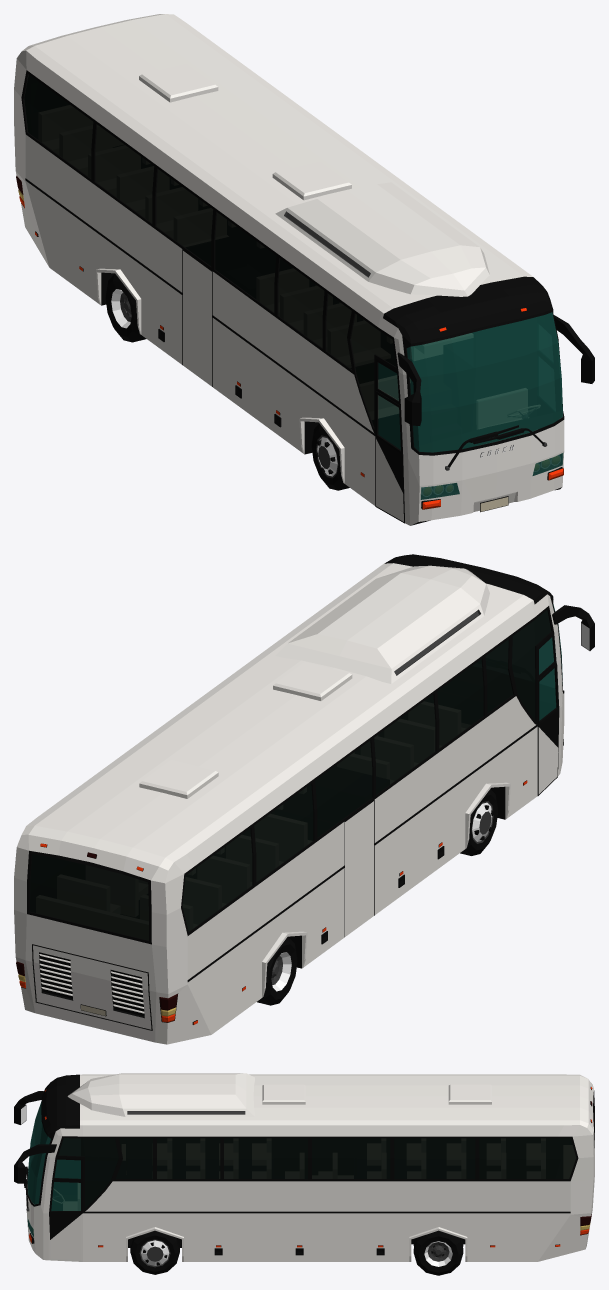
The model's file is Coach_04.FBX.
3 renders of one model, top to bottom at view 1: azimuth 30°, elevation 25°; view 2: azimuth 150°, elevation 25°; view 3: azimuth 270°, elevation 25°, orthographic. The views are drawn at different scales.
Parts seen in each view (by area): view 1: Coach_04, interior, wheels_b_r, wheel_f_r, mirror_r, mirror_l; view 2: Coach_04, wheels_b_r, wheel_f_r, interior, mirror_r; view 3: Coach_04, interior, wheels_b_l, wheel_f_l, mirror_l, mirror_r.
Part boxes in pixels (left/top/right/bottom): Coach_04: left=14, top=14, right=564, bottom=525; interior: left=378, top=312, right=562, bottom=452; wheels_b_r: left=105, top=274, right=146, bottom=342; wheel_f_r: left=311, top=423, right=349, bottom=490; mirror_r: left=397, top=352, right=421, bottom=425; mirror_l: left=553, top=315, right=594, bottom=383; Coach_04: left=14, top=554, right=564, bottom=1044; wheels_b_r: left=257, top=937, right=297, bottom=1005; wheel_f_r: left=460, top=789, right=498, bottom=855; interior: left=539, top=638, right=555, bottom=720; mirror_r: left=552, top=605, right=594, bottom=650; Coach_04: left=26, top=1073, right=594, bottom=1261; interior: left=28, top=1103, right=80, bottom=1210; wheels_b_l: left=413, top=1230, right=463, bottom=1275; wheel_f_l: left=130, top=1230, right=179, bottom=1274; mirror_l: left=14, top=1144, right=56, bottom=1183; mirror_r: left=14, top=1091, right=43, bottom=1124.
Size of the model in its own units: 37.42 by 45.76 by 146.
